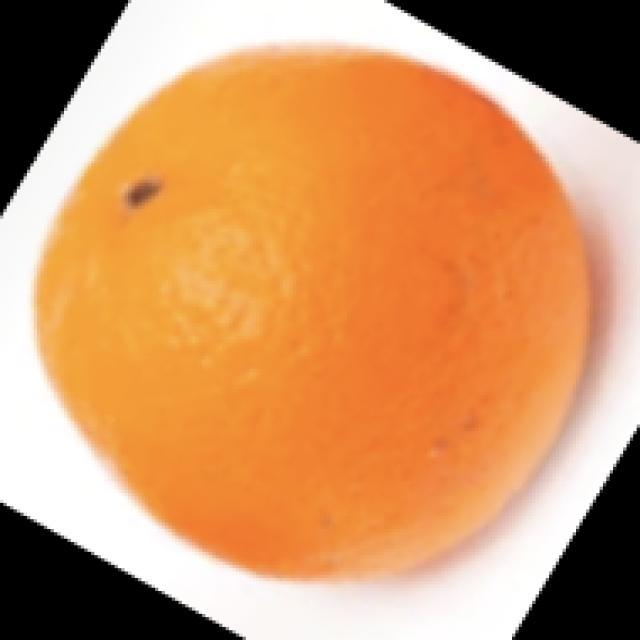matang: (37, 55, 588, 575)
